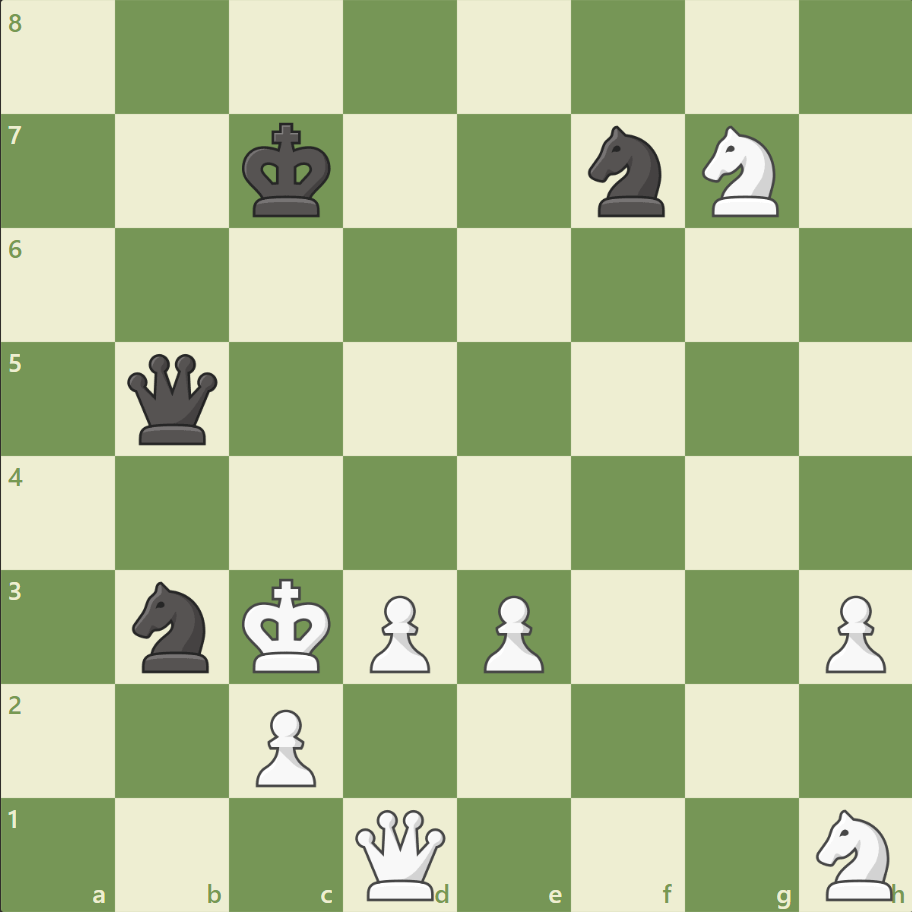K: (238, 571, 338, 679)
N: (692, 121, 789, 223), (806, 802, 903, 904)
P: (474, 586, 549, 677), (247, 700, 322, 791), (361, 586, 435, 677), (815, 586, 889, 677)
Q: (351, 804, 450, 903)
k: (238, 117, 338, 225)
n: (124, 575, 222, 677), (579, 121, 676, 223)
q: (124, 349, 223, 449)
